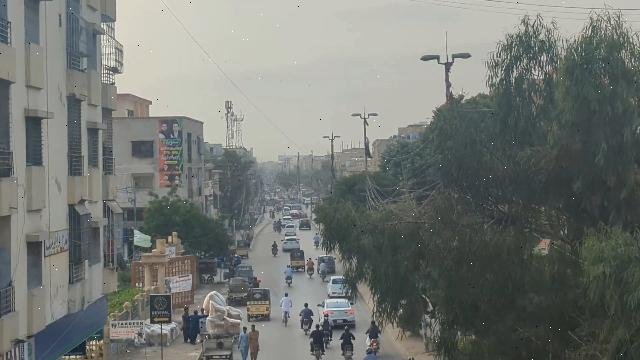Bike: (310, 343, 324, 360), (343, 343, 354, 360), (300, 318, 311, 335), (369, 338, 380, 354), (282, 310, 290, 327)
Car: (317, 297, 358, 328), (326, 275, 350, 299)
Cart: (200, 335, 234, 360)
Person: (249, 322, 261, 360), (236, 326, 249, 360), (337, 323, 356, 346), (364, 318, 383, 341), (188, 308, 200, 343), (180, 306, 191, 343), (300, 301, 315, 321), (318, 312, 334, 330), (198, 305, 206, 340), (280, 293, 292, 312), (312, 324, 323, 342)
Rickshaw: (245, 286, 272, 321)
Suzuki: (226, 276, 250, 306)
